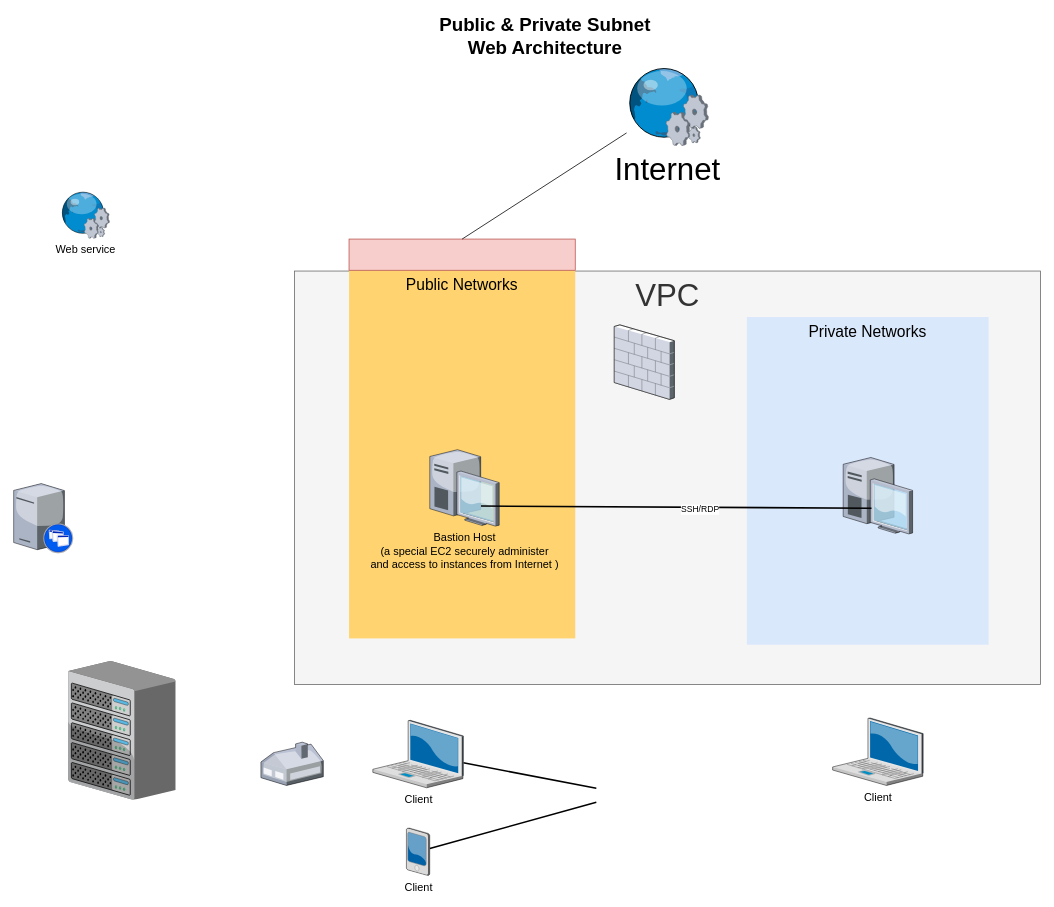
Image size: 1054x907. Some labels were removed from this diagram. Each missing label, with the centre of its shape:
"App/Web Server" belongs at pixel 877 495.
"DNS" belongs at pixel 121 730.
"Internet Gateway" belongs at pixel 461 254.
"Security Group (can apply to all EC2 control all inbound and outbound traffic )" belongs at pixel 644 361.
